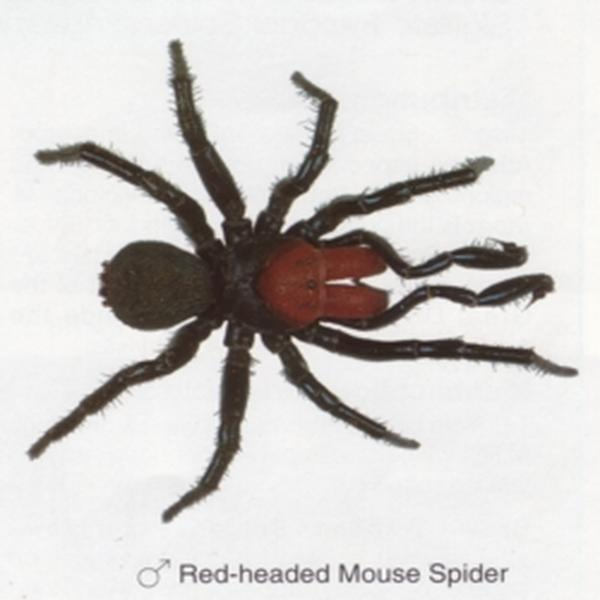Red Headed Mouse Spider: (48, 52, 559, 511)
